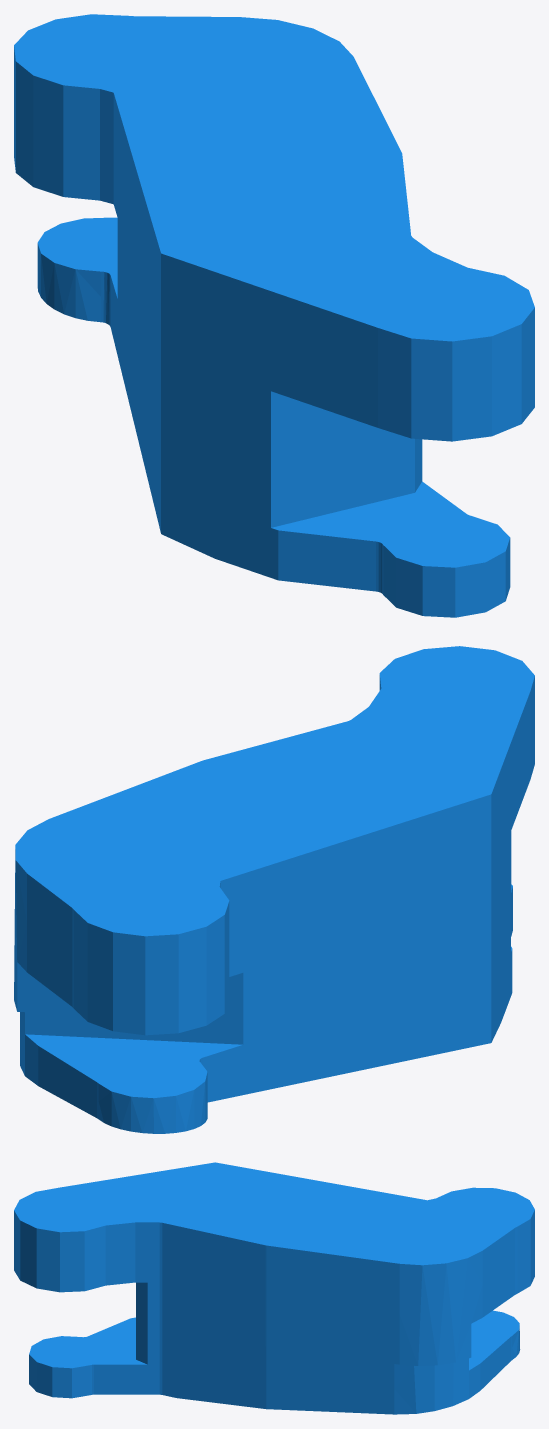
File: LLEG_LINK2_mesh.dae
3 renders of one model, top to bottom at view 1: azimuth 30°, elevation 25°; view 2: azimuth 150°, elevation 25°; view 3: azimuth 270°, elevation 25°, orthographic. The views are drawn at different scales.
Visible parts, largest first — view 1: LLEG_LINK2; view 2: LLEG_LINK2; view 3: LLEG_LINK2.
Part boxes in pixels (x1,y1,x2,y2): LLEG_LINK2: (14, 14, 534, 617); LLEG_LINK2: (14, 646, 534, 1133); LLEG_LINK2: (14, 1162, 534, 1414).
Size of the model in its own units: 0.2056 by 0.1605 by 0.44.
